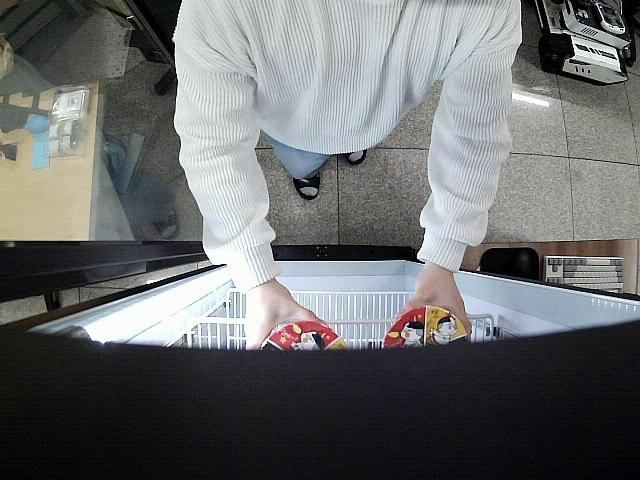00_hand: (243, 289, 321, 349), (397, 278, 469, 337)
07_buldak_L: (381, 303, 469, 351), (257, 320, 352, 355)
